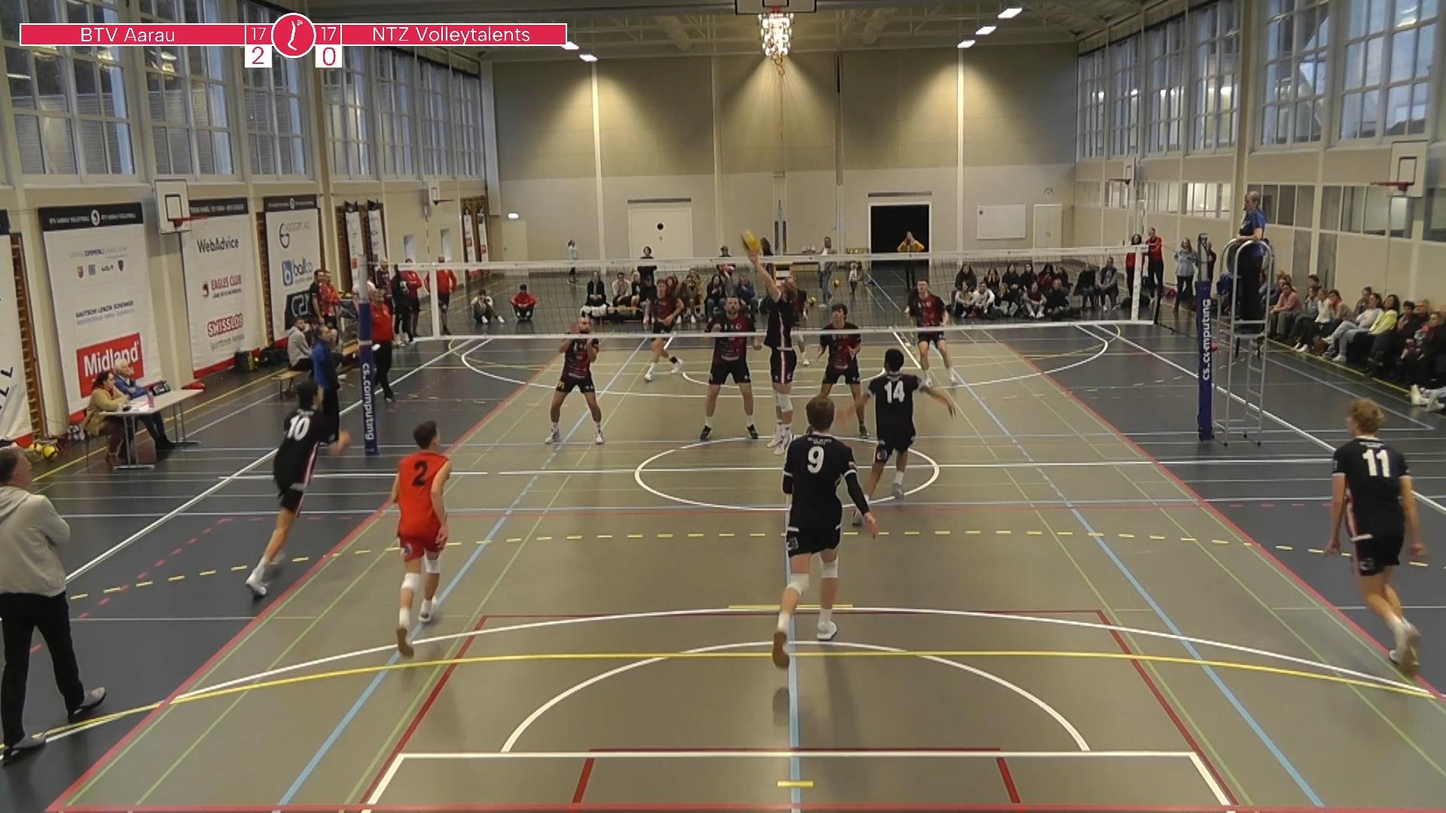Player: (772, 396, 877, 668), (1326, 399, 1424, 675), (246, 380, 349, 597), (390, 421, 451, 656), (865, 349, 956, 499), (700, 296, 762, 440), (545, 316, 604, 444), (819, 303, 868, 439), (905, 279, 964, 383), (644, 276, 684, 382), (786, 275, 810, 325)
Set: (742, 253, 798, 453)
ball: (738, 225, 762, 253)
